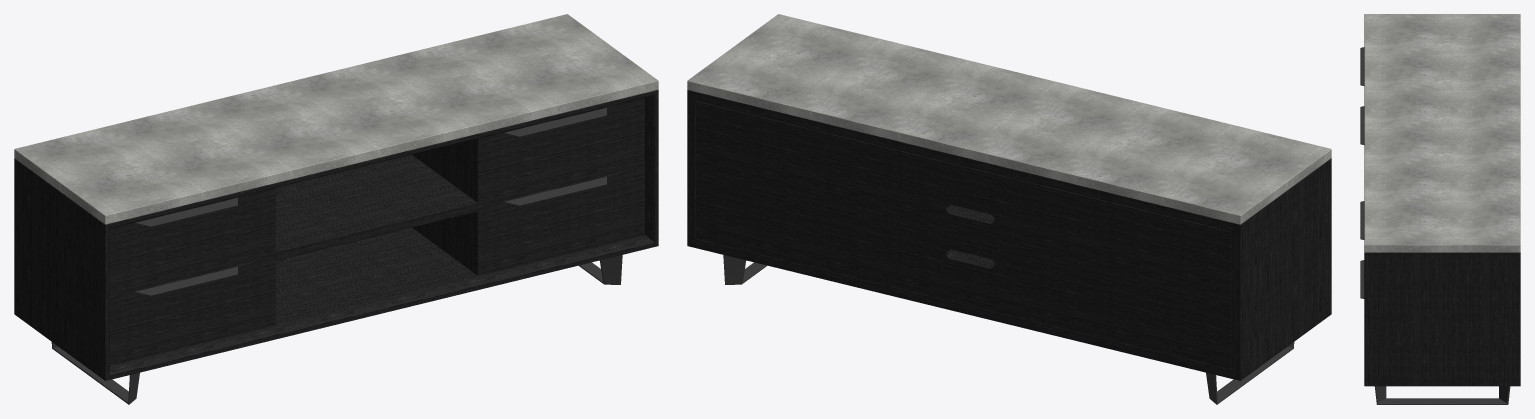
File: tv_furniture_bedroom.dae
3 views of the same model, side by side, from view 1: azimuth 30°, elevation 25°; view 2: azimuth 150°, elevation 25°; view 3: azimuth 270°, elevation 25° (orthographic). The views are drawn at different scales.
Parts seen in each view (by area): view 1: DE_GHT_118C_Component_08, DE_GHT_118C_Component_02 (×4), DE_GHT_118C_Component_05, DE_GHT_118C_Component_10, DE_GHT_118C_Component_09, DE_GHT_118C_Component_03 (×4), DE_GHT_118C_Component_06 (×2); view 2: DE_GHT_118C_Component_07, DE_GHT_118C_Component_08, DE_GHT_118C_Component_05, DE_GHT_118C_Component_06 (×2); view 3: DE_GHT_118C_Component_08, DE_GHT_118C_Component_05, DE_GHT_118C_Component_06 (×2), DE_GHT_118C_Component_03 (×4).
Boxes of the visible parts, x1,y1,x2,y2 form: DE_GHT_118C_Component_08: (14, 14, 658, 224); DE_GHT_118C_Component_02 (×4): (109, 98, 644, 365); DE_GHT_118C_Component_05: (14, 90, 658, 380); DE_GHT_118C_Component_10: (276, 154, 477, 260); DE_GHT_118C_Component_09: (412, 140, 472, 271); DE_GHT_118C_Component_03 (×4): (135, 108, 606, 295); DE_GHT_118C_Component_06 (×2): (52, 255, 622, 402); DE_GHT_118C_Component_07: (696, 101, 1231, 369); DE_GHT_118C_Component_08: (687, 14, 1331, 224); DE_GHT_118C_Component_05: (687, 90, 1331, 380); DE_GHT_118C_Component_06 (×2): (723, 255, 1293, 402); DE_GHT_118C_Component_08: (1364, 14, 1520, 252); DE_GHT_118C_Component_05: (1364, 252, 1520, 386); DE_GHT_118C_Component_06 (×2): (1374, 386, 1510, 404); DE_GHT_118C_Component_03 (×4): (1360, 47, 1364, 298).
Size of the model in its own units: 63 by 18.48 by 22.
3 materials, 3 textured.
